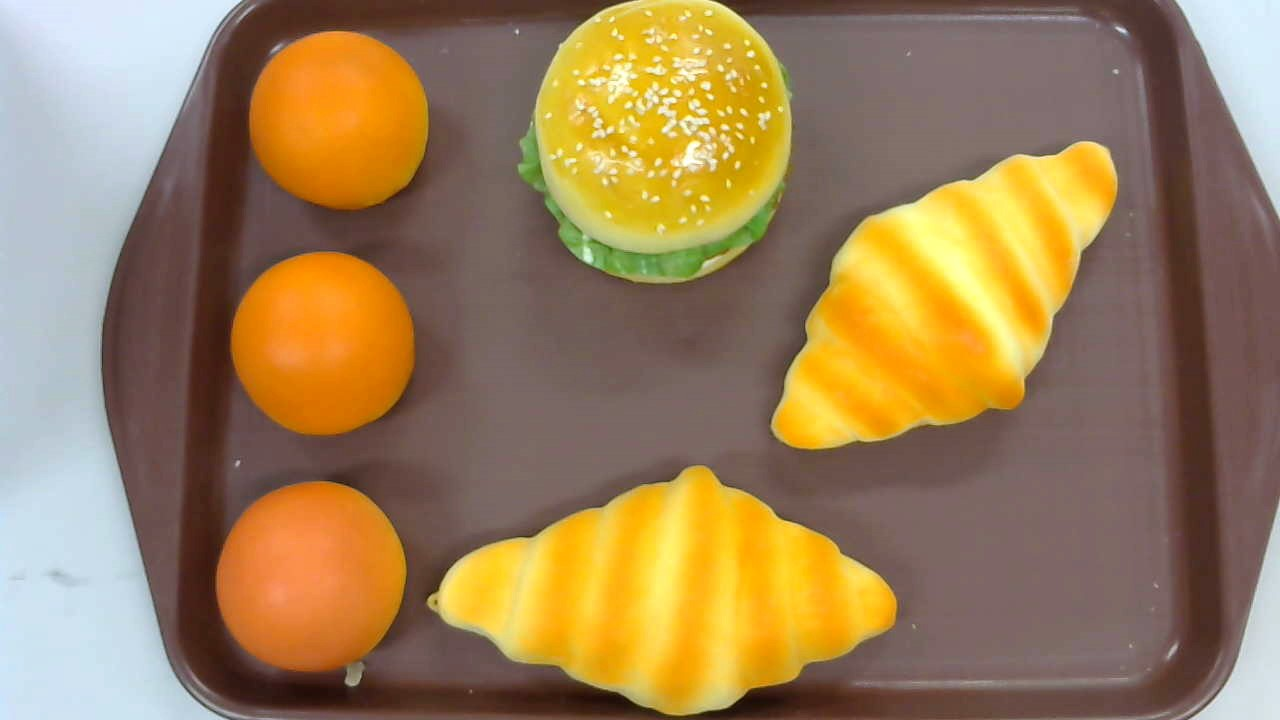bun: (215, 480, 406, 673), (231, 251, 416, 438), (248, 29, 429, 209)
croissant: (427, 464, 897, 716), (769, 141, 1118, 449)
hamburger: (517, 1, 795, 285)
